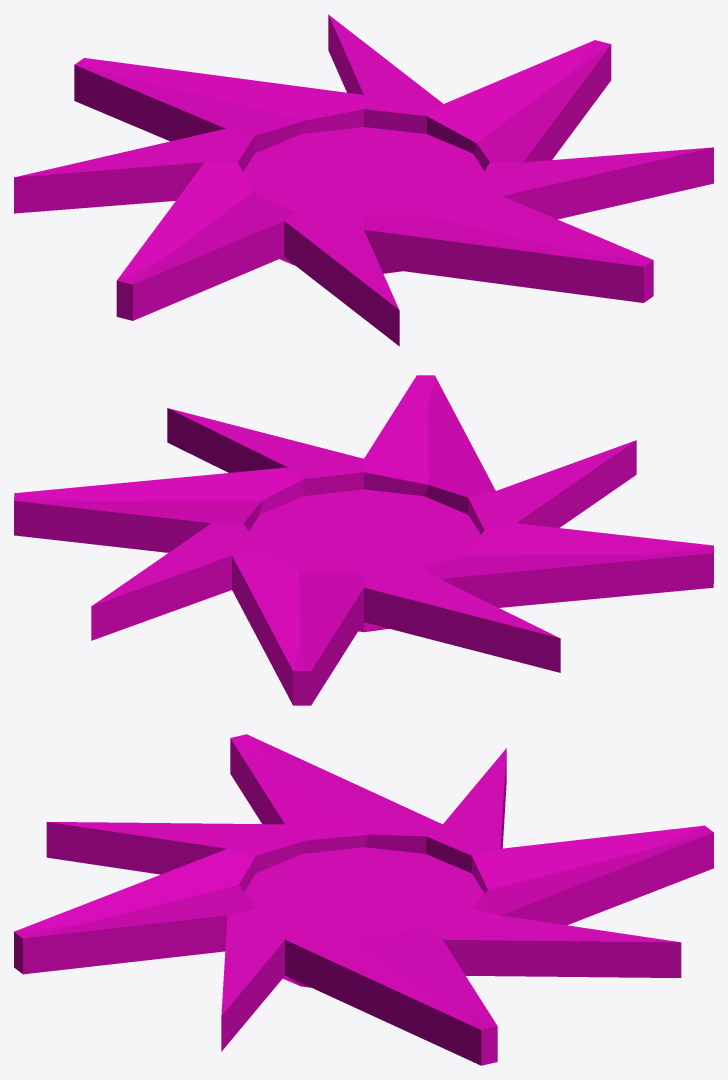
File: 6Disc.fbx
The picture shows the model from 3 angles, top to bottom: view 1: azimuth 30°, elevation 25°; view 2: azimuth 150°, elevation 25°; view 3: azimuth 270°, elevation 25°; orthographic projection. The views are drawn at different scales.
Parts seen in each view (by area): view 1: 6Disc; view 2: 6Disc; view 3: 6Disc.
Part boxes in pixels (box(x1,y1,x2,y2)): 6Disc: box(14, 14, 713, 346); 6Disc: box(14, 375, 713, 705); 6Disc: box(14, 734, 713, 1065).
Bounding box in the file's own units: 444 × 78.96 × 444.
